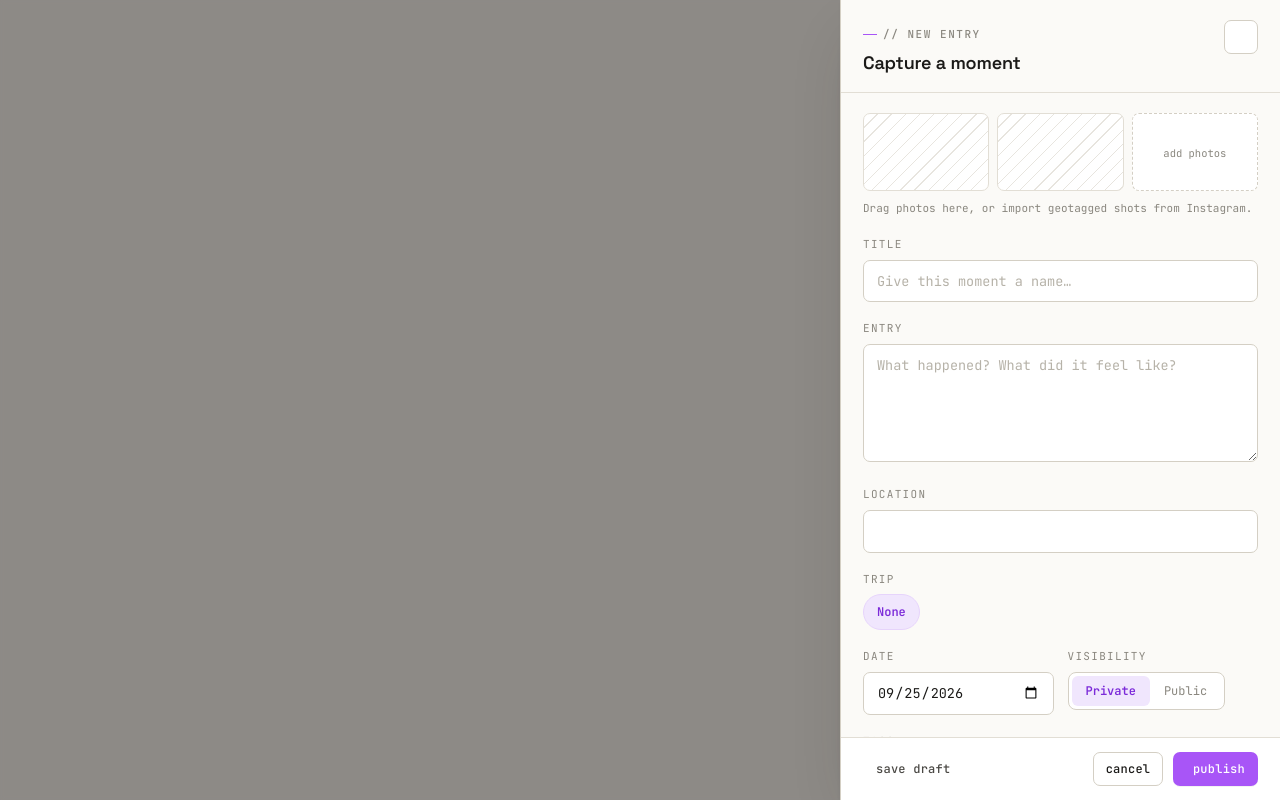
Test: AppNewEntry › shows publish error when createEntry throws
Click the button with class "btn--primary": click(1216, 769) [1173,752,1258,786]
(page scrolled)
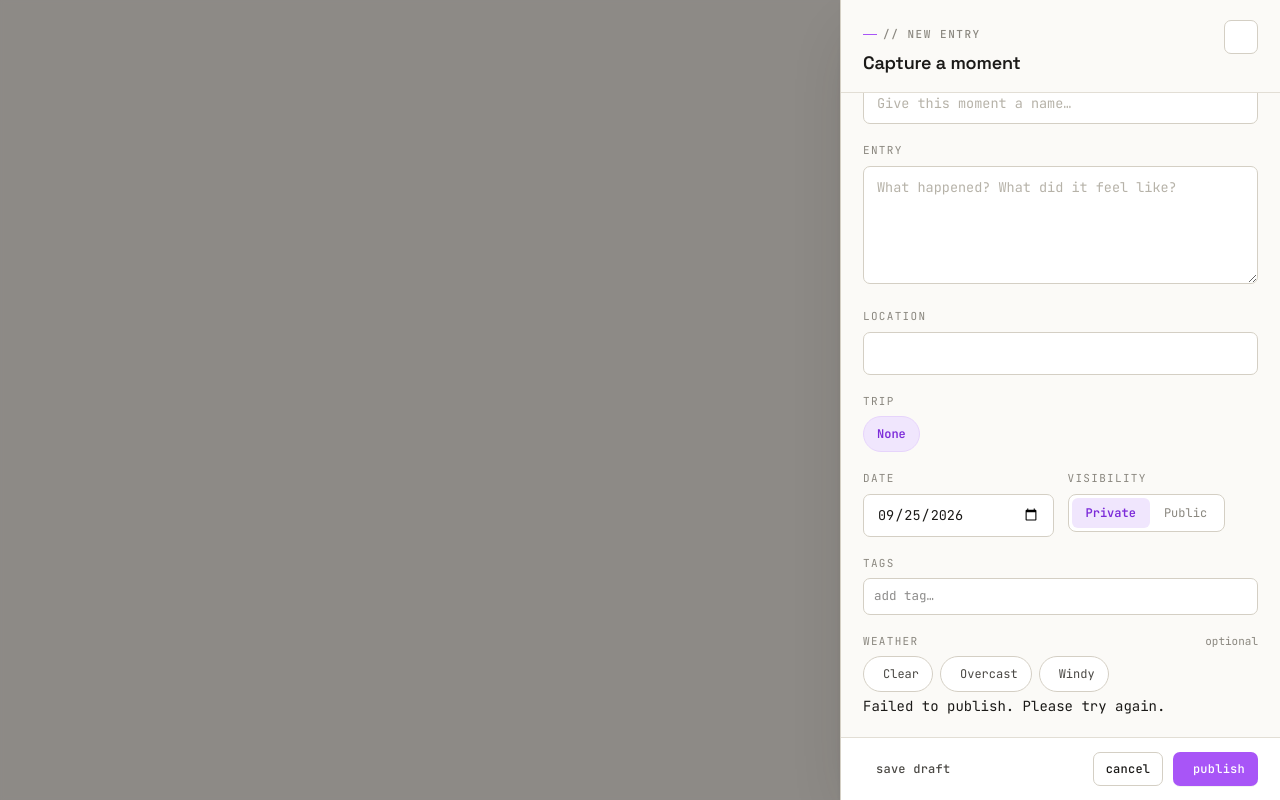
Now the text with test id "publish-error" reads "Failed to publish. Please try again.", box [863,697,1165,715]
